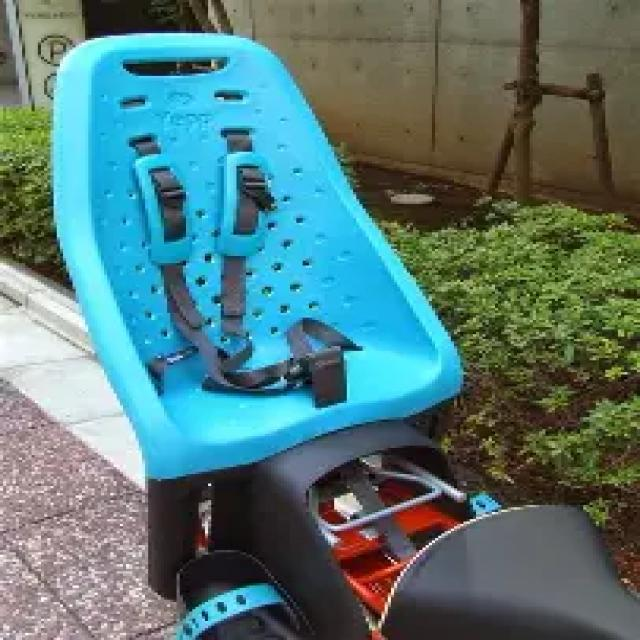childseat: (53, 18, 473, 526)
